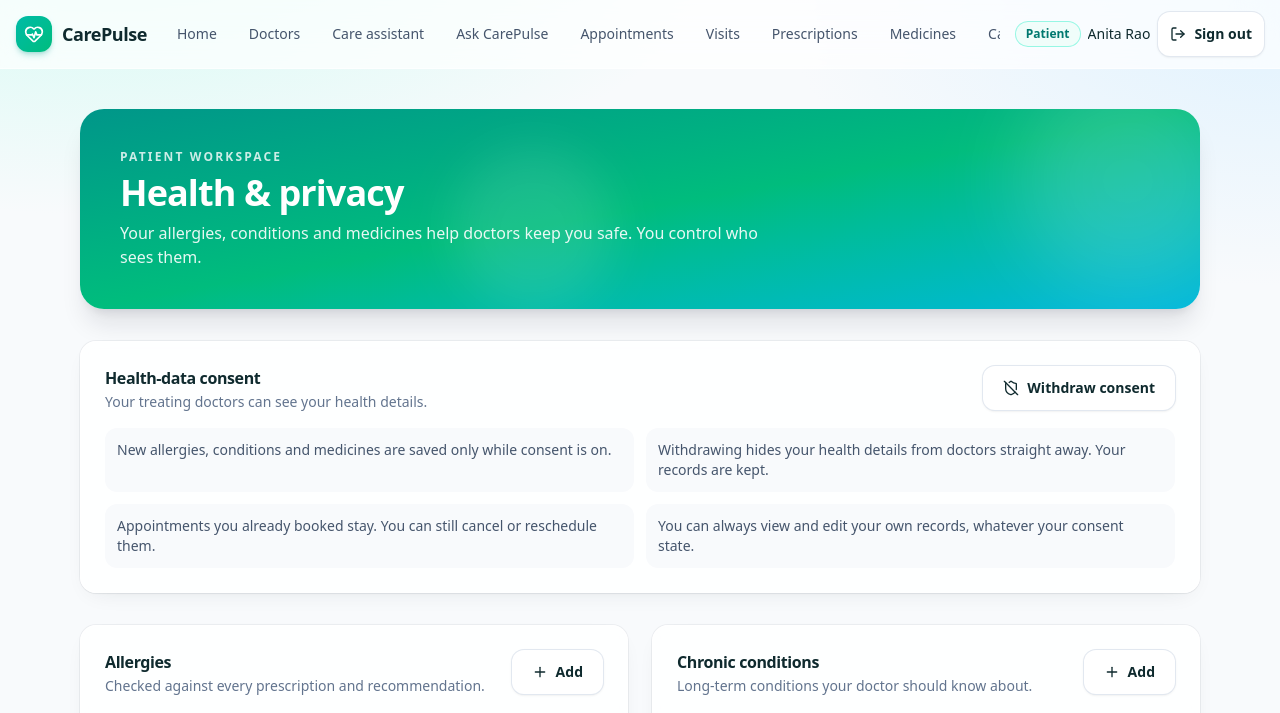
Test: clinical flows › withdraws consent with one action and reflects the new state
Step 1. Click the button "Withdraw consent" → {"x": 1079, "y": 388}, box [983,366,1175,410]
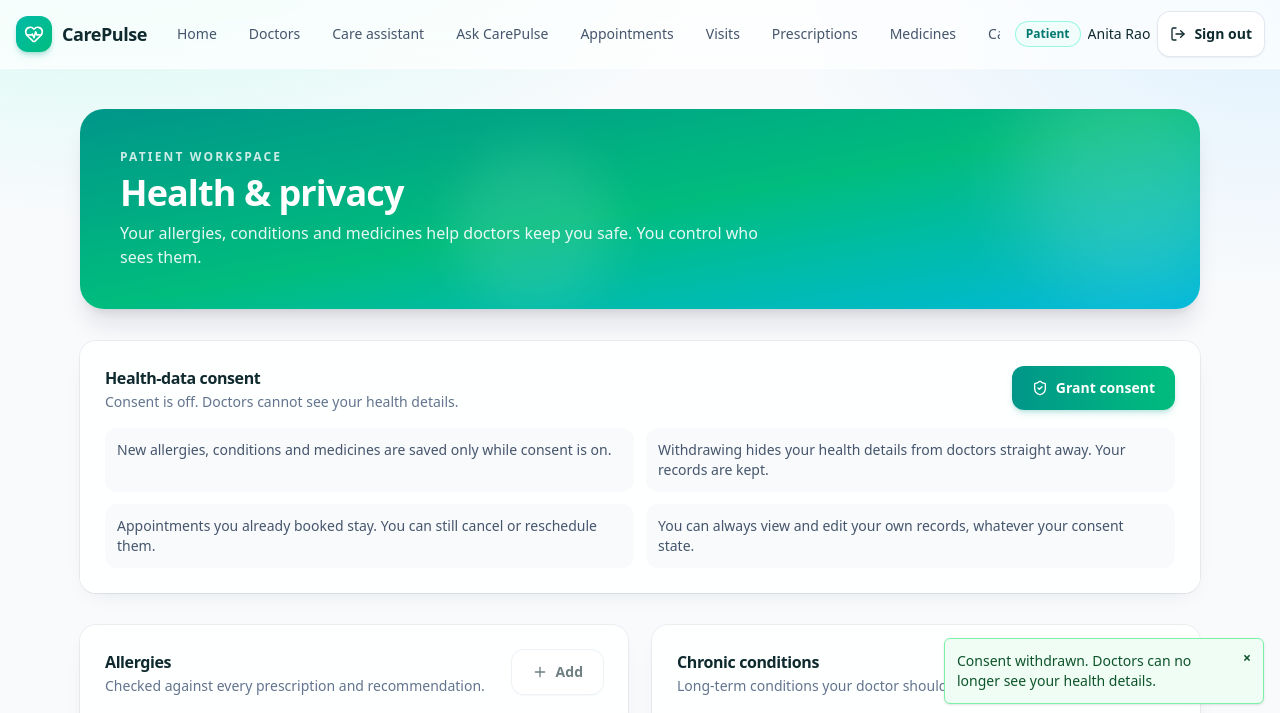
Now the text "Consent is off. Doctors cannot see your health details." is shown, box [105,392,458,412]
